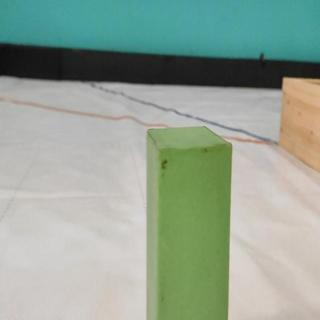greenbox: (143, 121, 237, 320)
